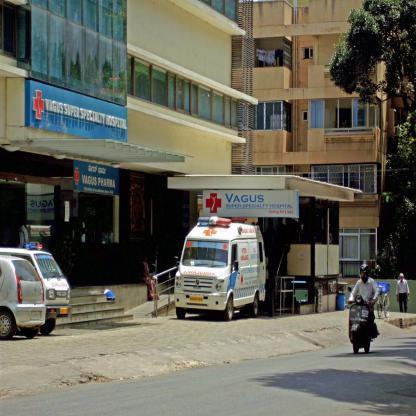bus: (174, 214, 268, 321), (1, 243, 74, 336)
